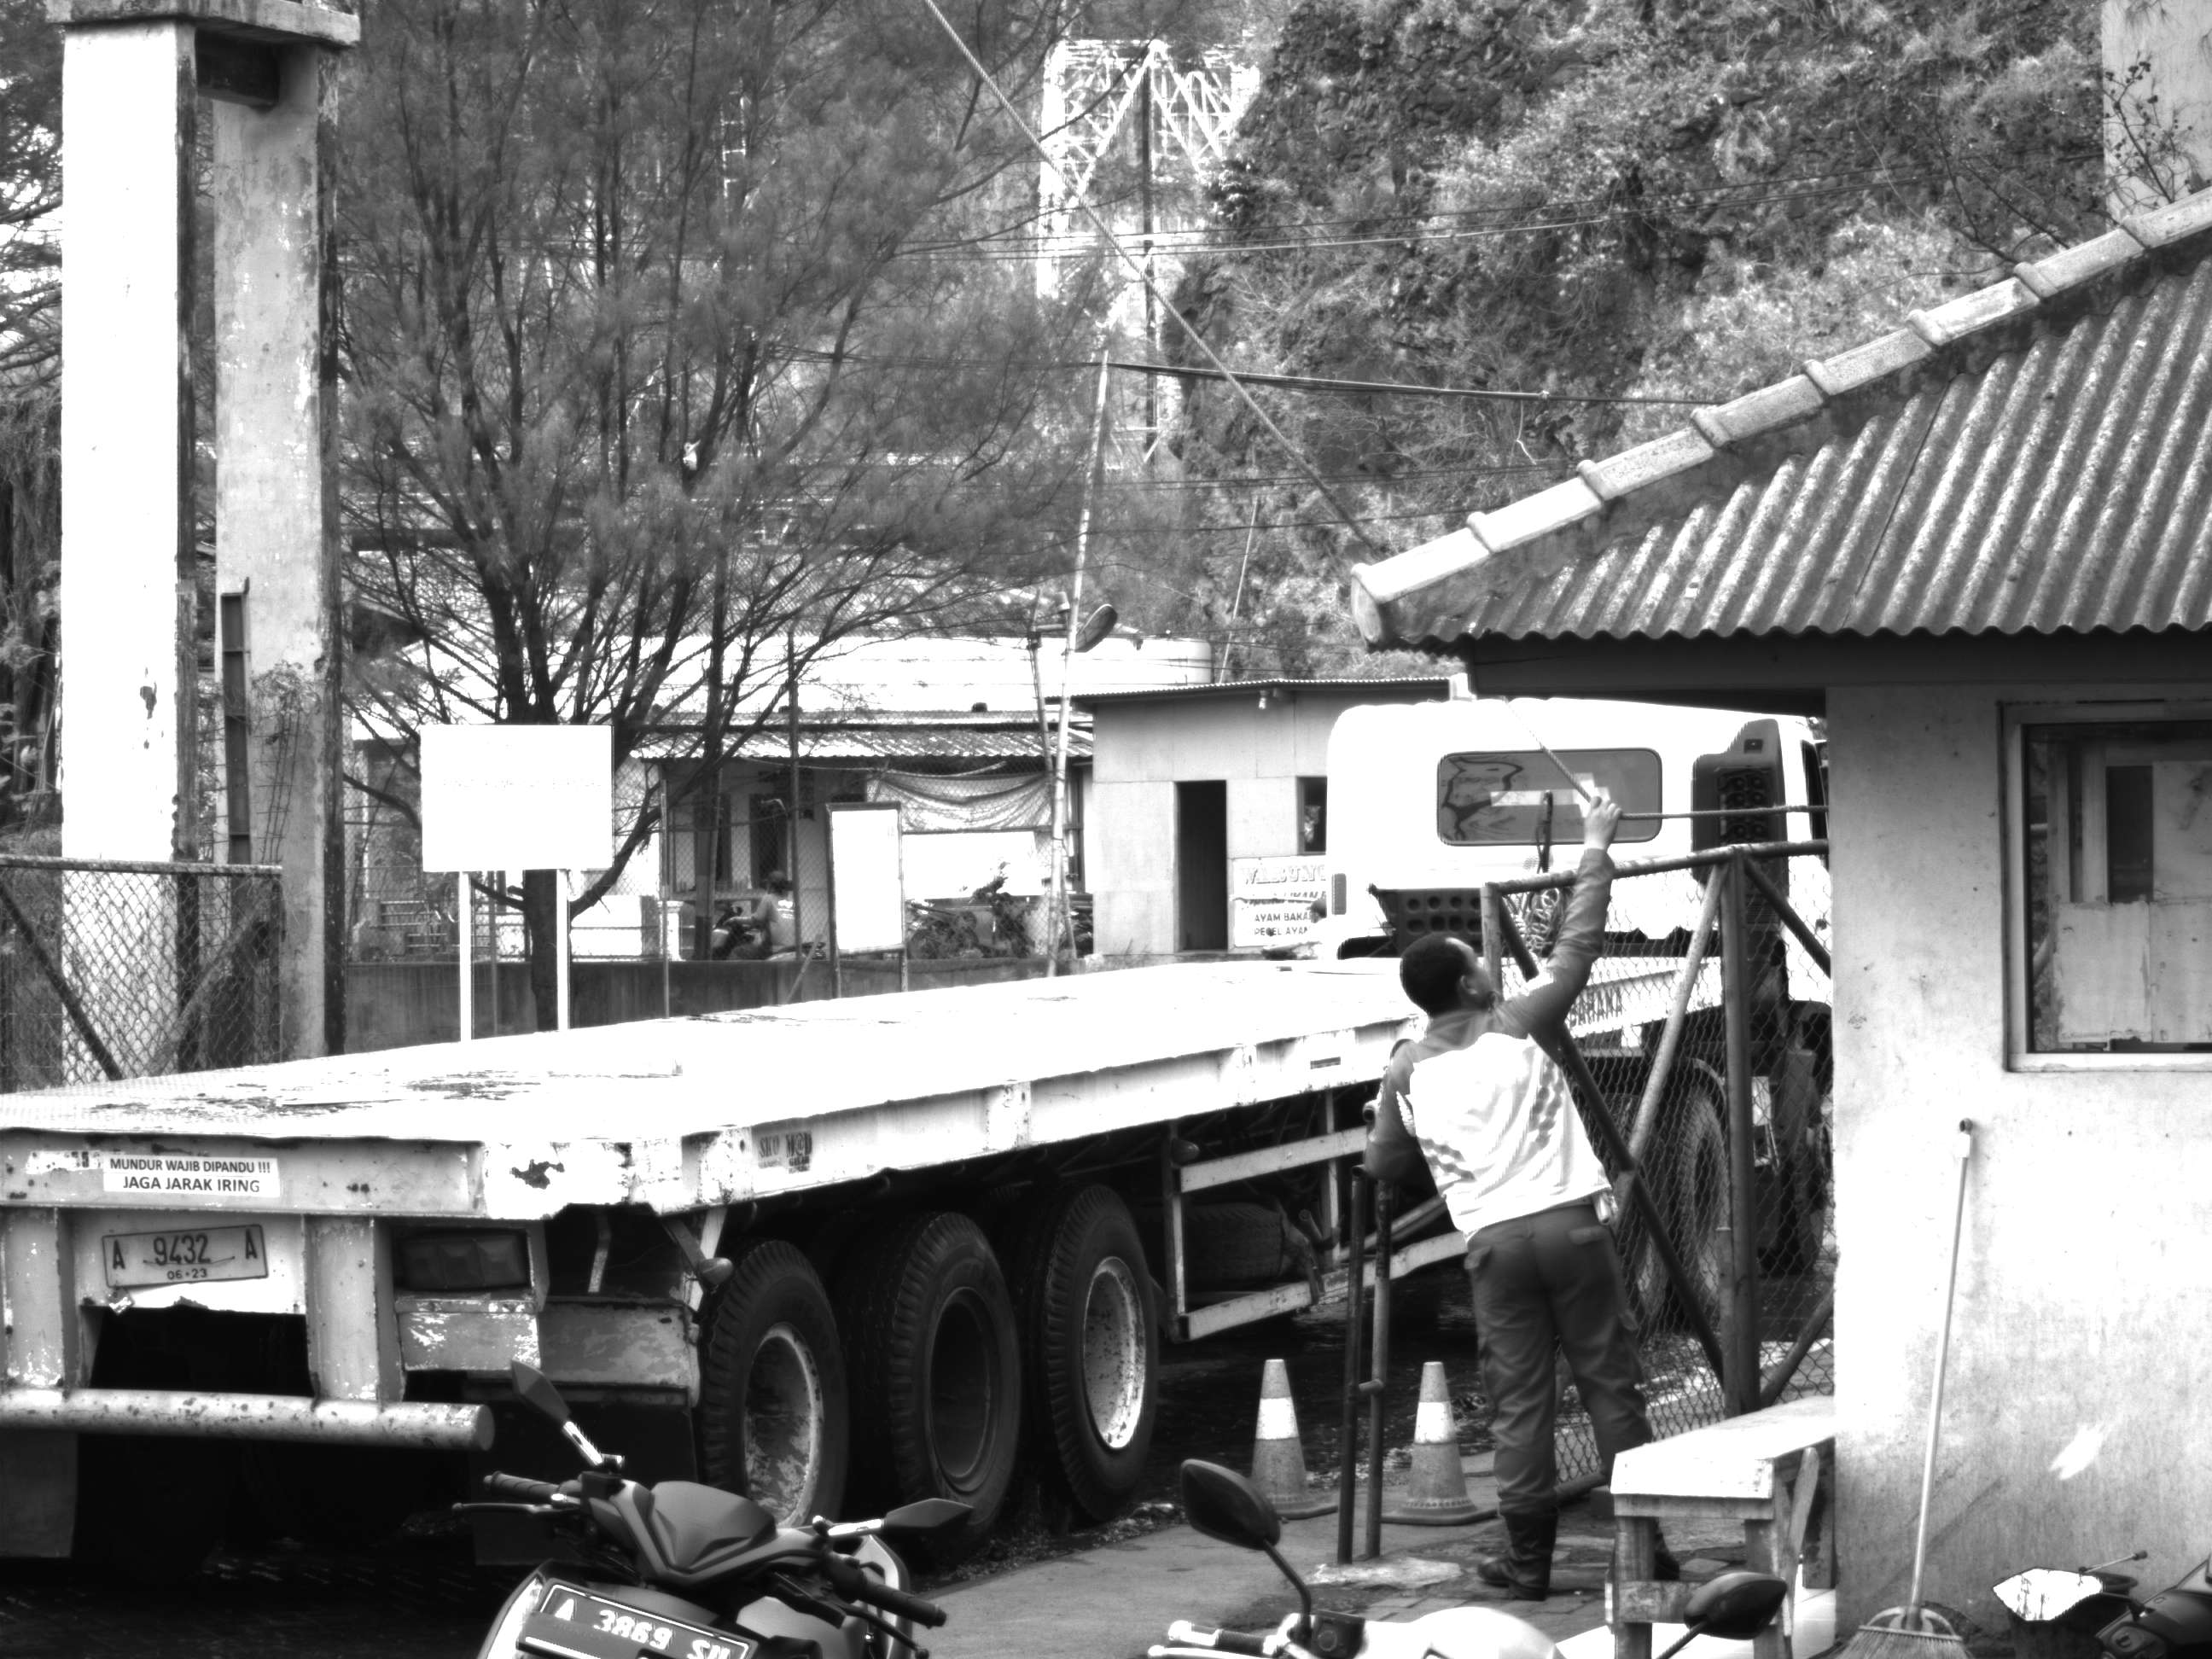day_truck_rear: (1, 1084, 922, 1598)
plate: (97, 1219, 277, 1289)
